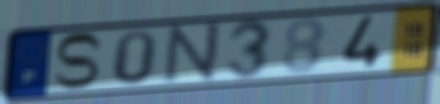0: (111, 29, 160, 86)
3: (225, 17, 274, 83)
4: (340, 13, 385, 71)
8: (281, 16, 331, 77)
N: (161, 21, 225, 86)
S: (51, 32, 106, 91)
